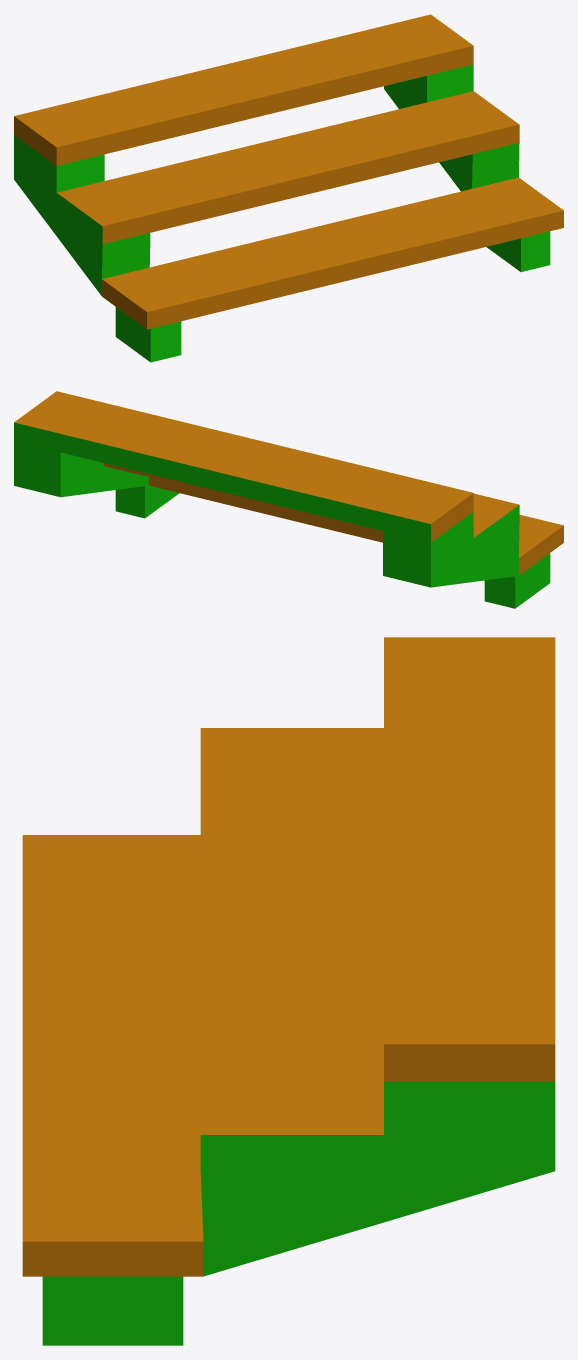
Rendered from Unity HD Render Pipeline (Metallic Standard).fbx.
3 views of the same model, one above another, from view 1: azimuth 30°, elevation 25°; view 2: azimuth 150°, elevation 25°; view 3: azimuth 270°, elevation 25° (orthographic). The views are drawn at different scales.
Visible parts, largest first — view 1: ExteriorStairs (×2); view 2: ExteriorStairs (×2); view 3: ExteriorStairs (×2).
Boxes of the visible parts, x1=… form: ExteriorStairs (×2): x1=14, y1=14, x2=563, y2=362; ExteriorStairs (×2): x1=14, y1=391, x2=563, y2=608; ExteriorStairs (×2): x1=22, y1=637, x2=555, y2=1345.
Bounding box in the file's own units: 2 × 0.7095 × 1.11.
